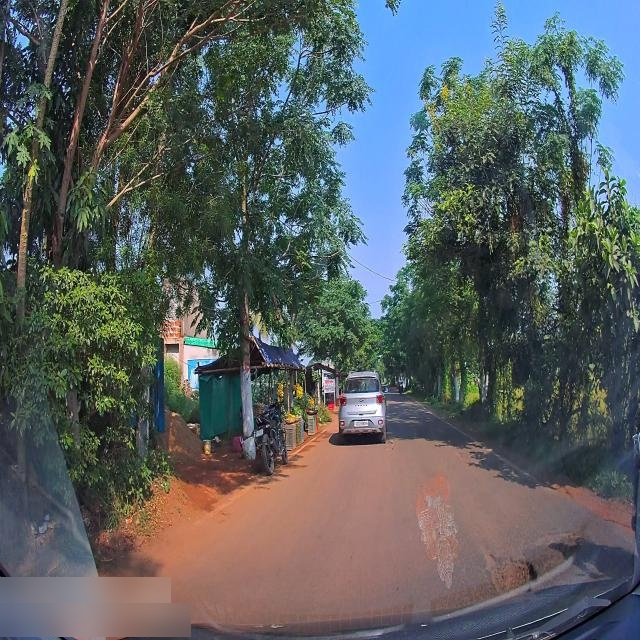pothole: (484, 550, 539, 609), (540, 526, 583, 570), (384, 448, 396, 456), (385, 438, 395, 447), (457, 449, 465, 460)
